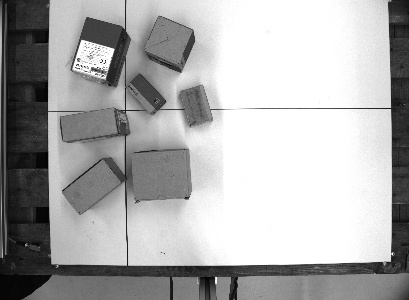b1: (177, 82, 214, 128)
b2: (60, 156, 127, 218)
b3: (123, 71, 167, 115)
b4: (68, 14, 132, 88)
b5: (129, 146, 193, 204)
b6: (57, 106, 132, 145)
b7: (141, 14, 197, 73)
